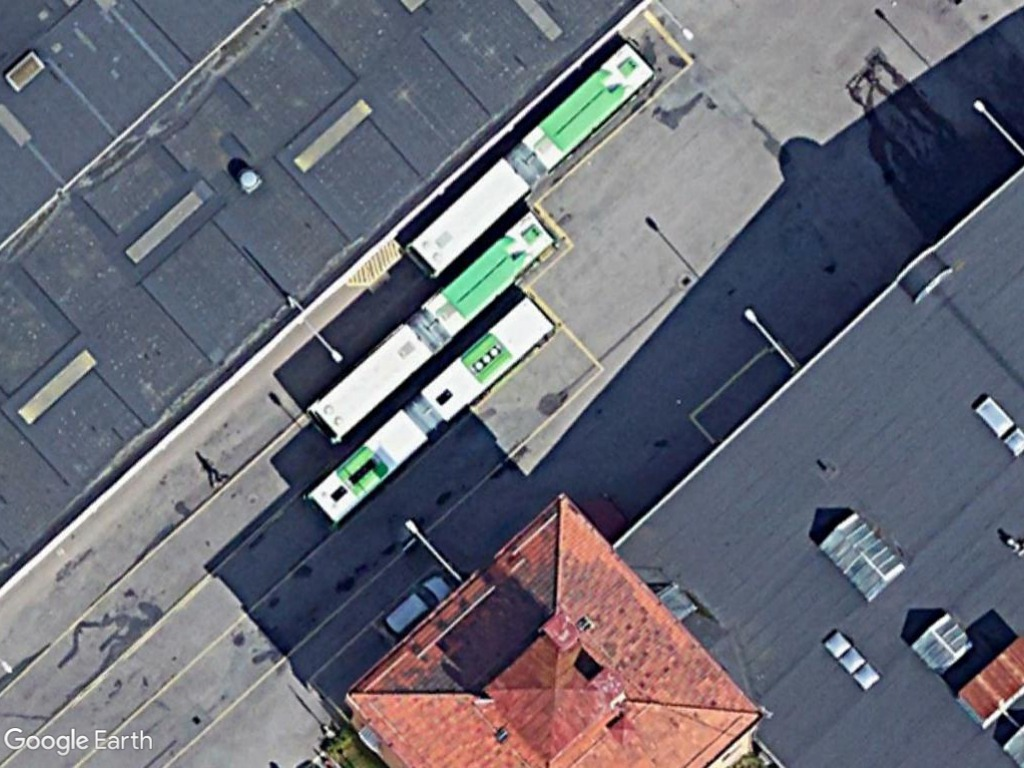bus: (305, 289, 559, 534), (300, 212, 558, 451), (519, 34, 662, 175)
car: (377, 571, 458, 641)
